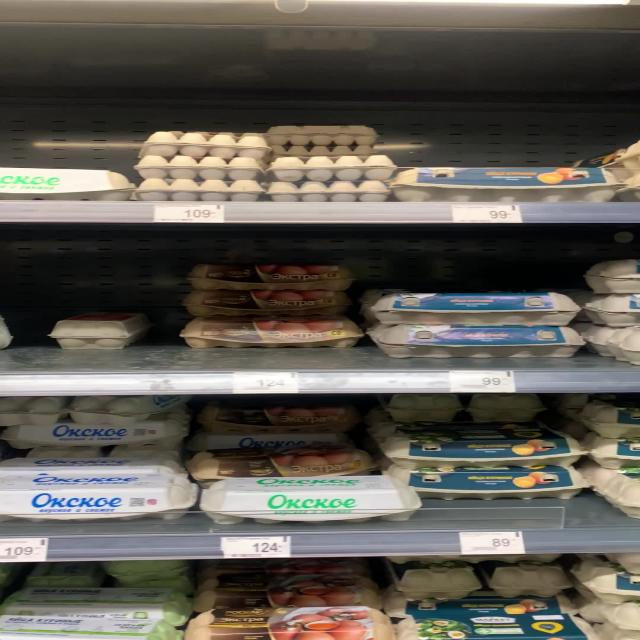egg box: (393, 157, 618, 208), (370, 417, 582, 468), (199, 478, 416, 524), (2, 465, 186, 517), (377, 461, 594, 502), (367, 288, 578, 329), (0, 414, 185, 456), (178, 254, 360, 296), (370, 327, 587, 361), (193, 572, 379, 610), (172, 318, 366, 354), (3, 590, 188, 626), (175, 287, 364, 321), (190, 610, 397, 638), (194, 444, 369, 476), (194, 397, 355, 429), (5, 159, 126, 201), (5, 610, 179, 638), (383, 594, 579, 618), (392, 616, 596, 639)
